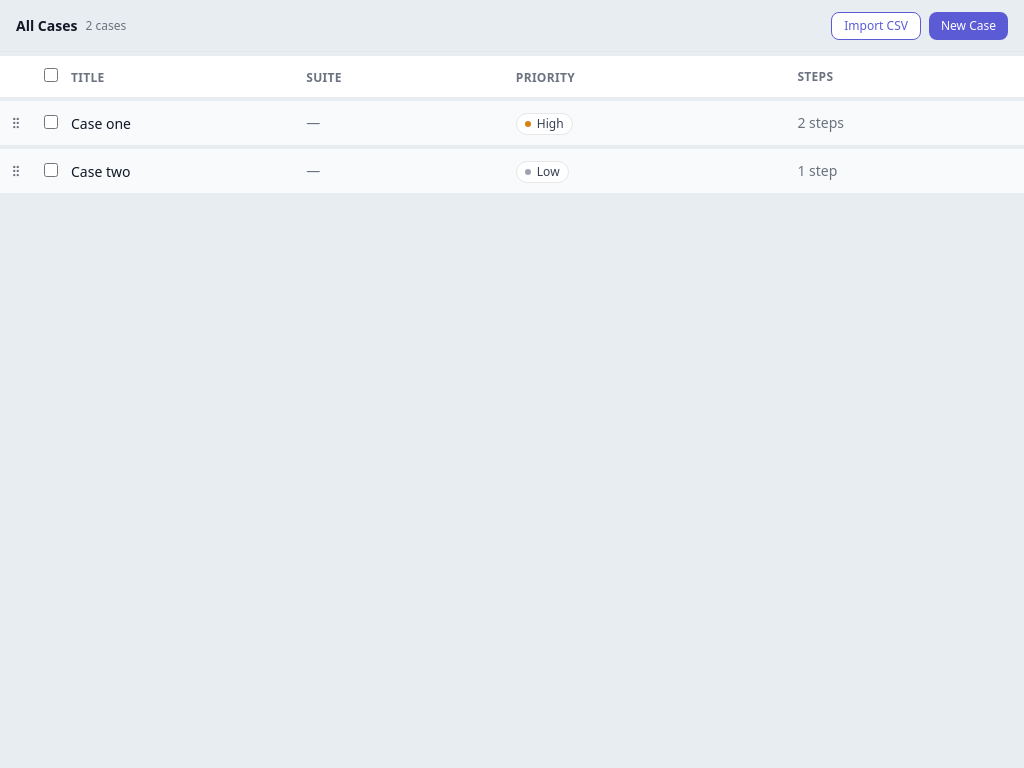
it: CaseList — bulk delete feedback › failed bulk delete shows an error toast and does not refetch
Click the checkbox named "Select all" at (51, 75), box [44, 68, 58, 82]
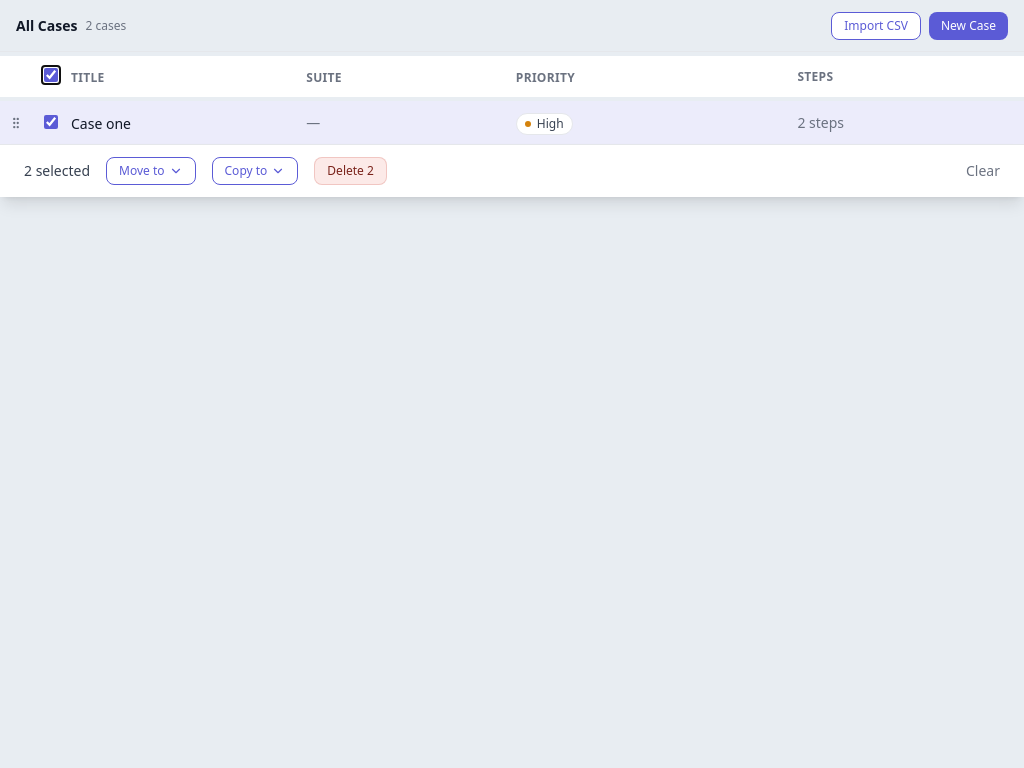
Click the button "Delete 2" at (351, 171), box [314, 157, 387, 185]
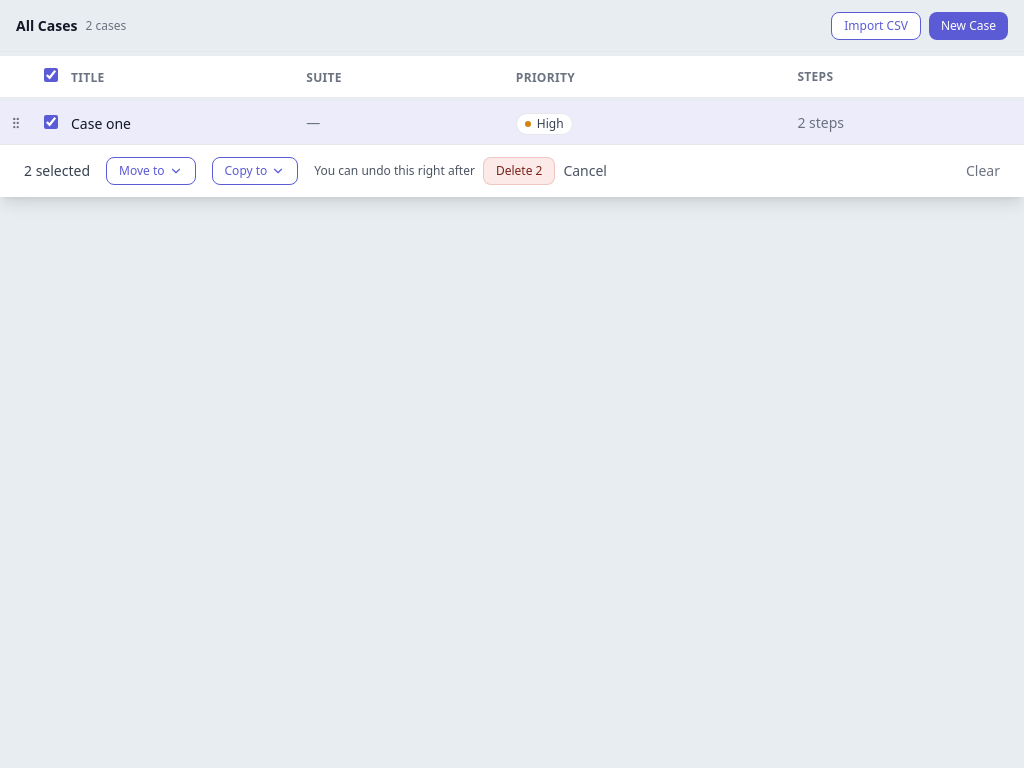
Click the button "Delete 2" at (519, 171), box [483, 157, 555, 185]
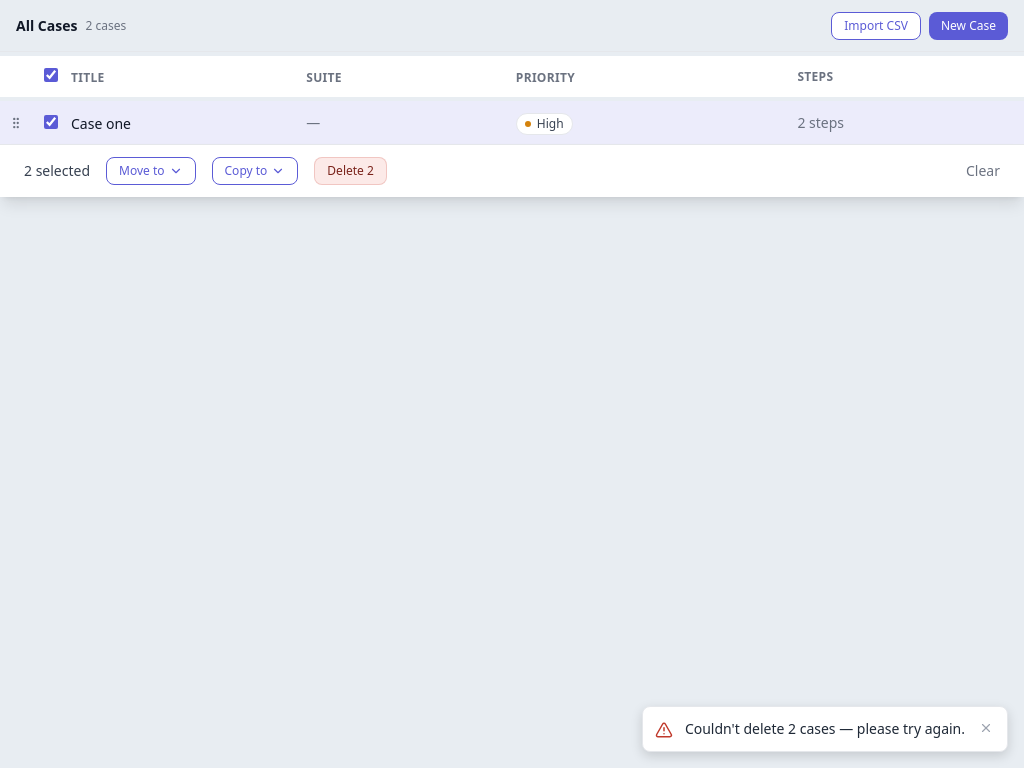
Check: the text "Couldn't delete 2 cases — please try again." is shown, box [685, 719, 965, 739]
